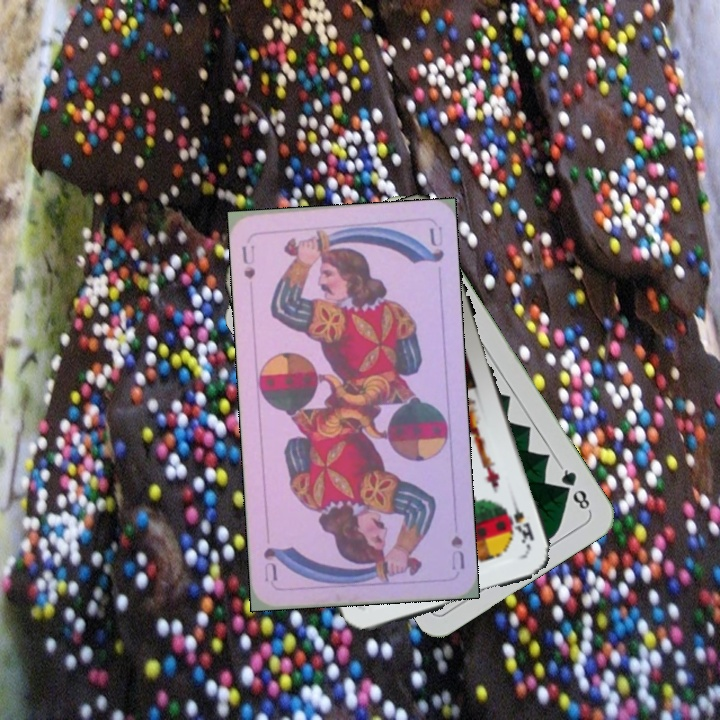G8: (555, 462, 593, 514)
SK: (507, 493, 537, 551)
SU: (447, 531, 468, 573), (237, 241, 258, 281)
